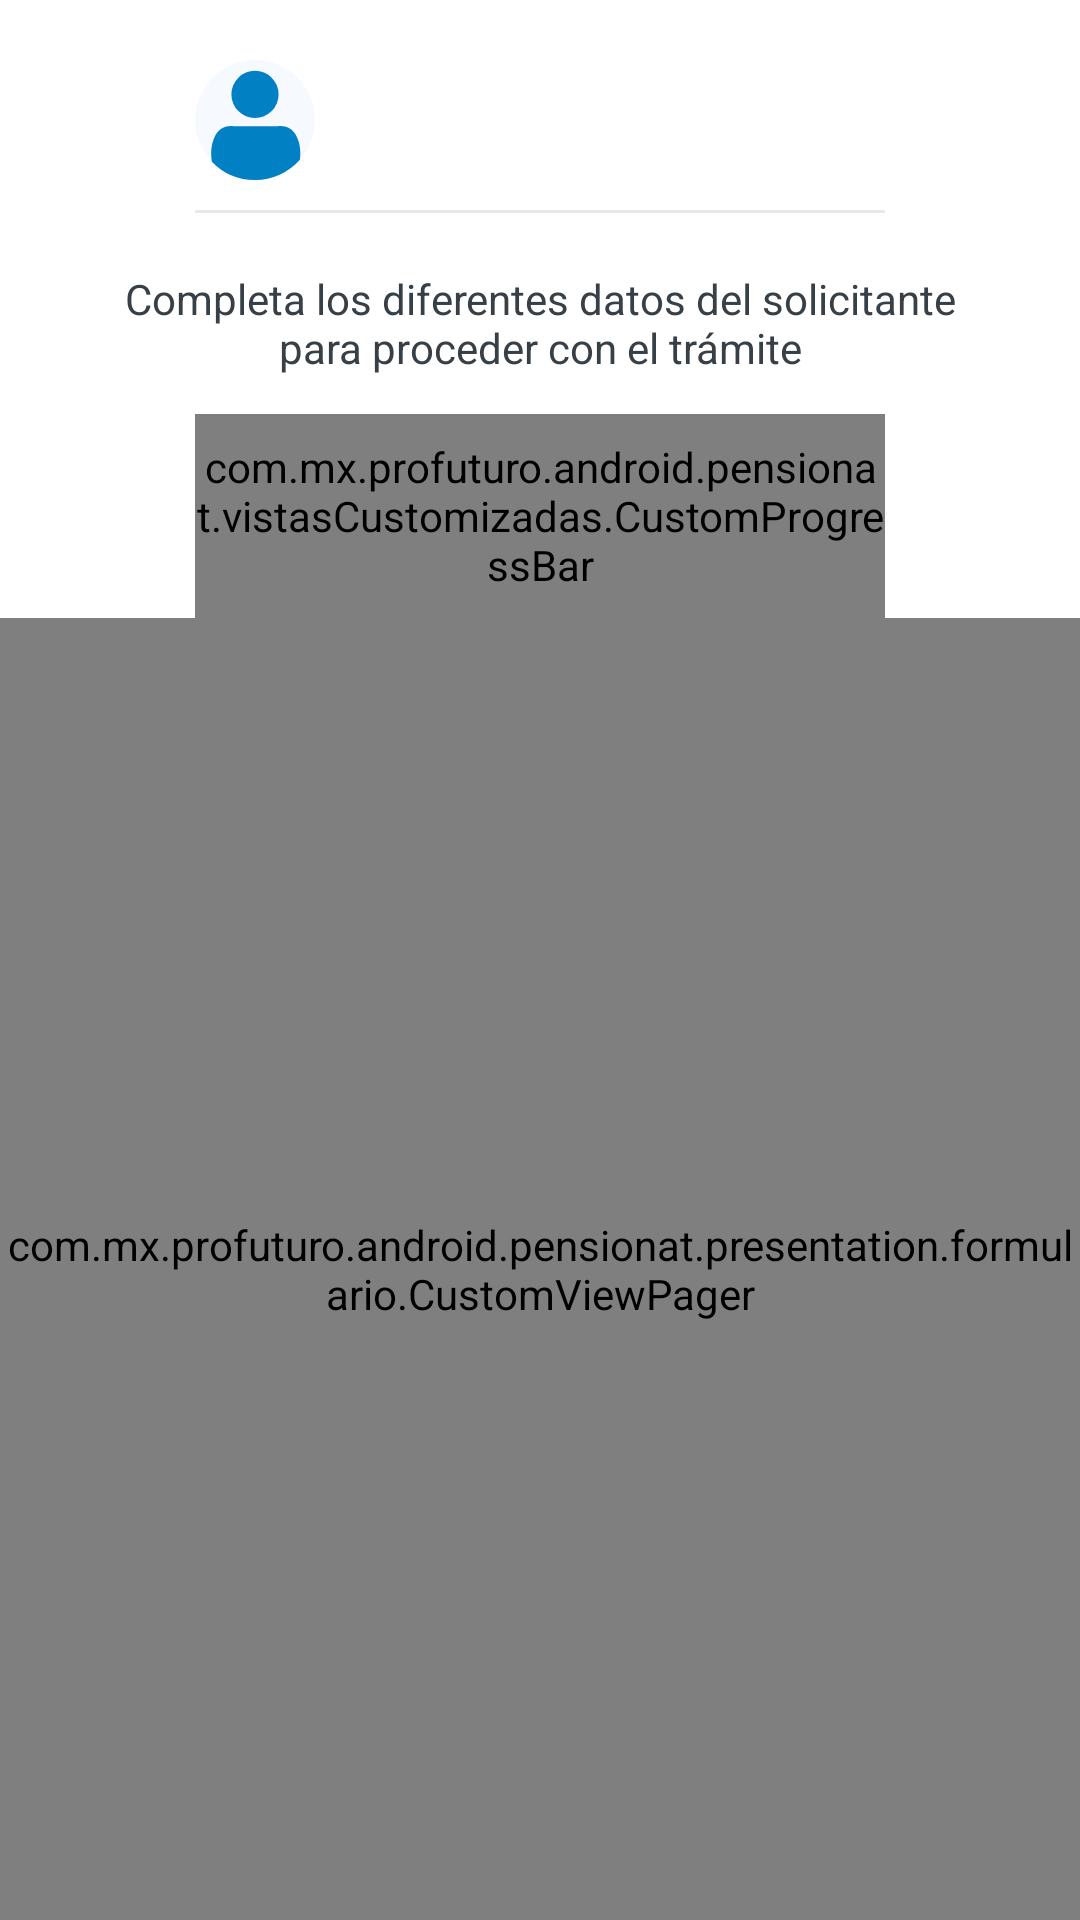

Where icons sit on this 1080x1920 app screen, as (x1, y1, x2, y2):
Imagen generica empleado: (211, 70, 301, 180)
